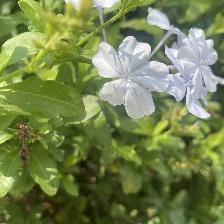chitrak: (93, 36, 168, 121), (161, 45, 213, 121), (175, 23, 222, 93)
